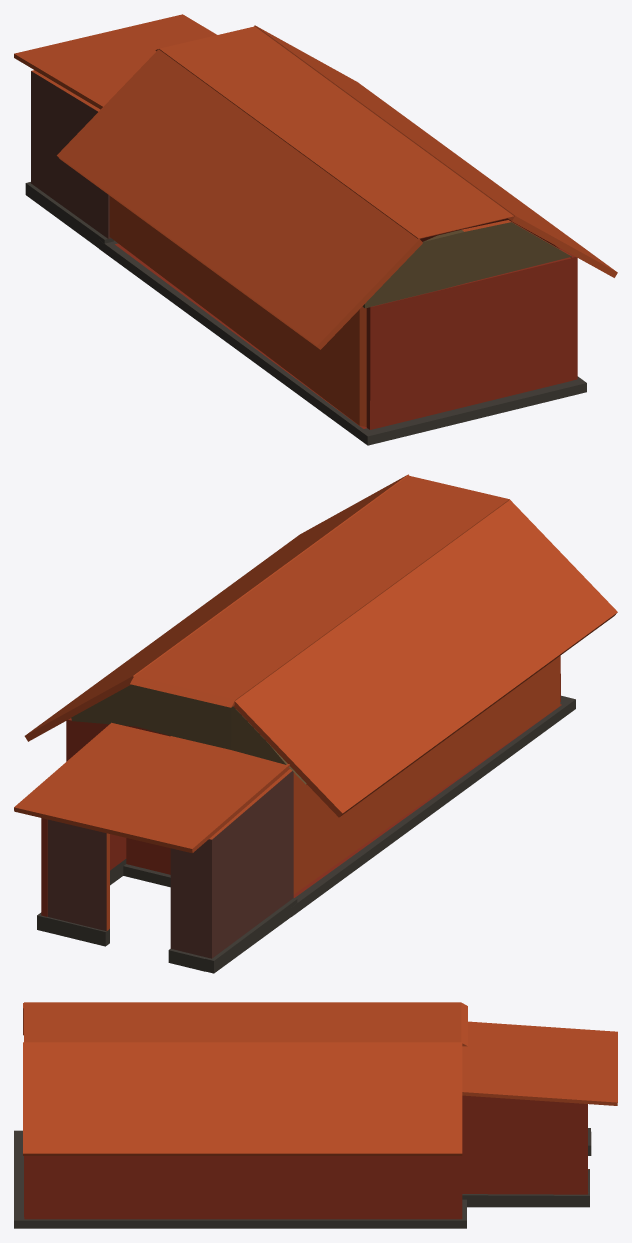
Rendered from LowPolyHouse.fbx.
3 renders of one model, top to bottom at view 1: azimuth 30°, elevation 25°; view 2: azimuth 150°, elevation 25°; view 3: azimuth 270°, elevation 25°, orthographic. The views are drawn at different scales.
Visible parts, largest first — view 1: Cube.020; view 2: Cube.020; view 3: Cube.020.
Part boxes in pixels (bbox=[...]): Cube.020: bbox=[14, 14, 617, 445]; Cube.020: bbox=[14, 474, 617, 973]; Cube.020: bbox=[14, 1002, 617, 1228].
Size of the model in its own units: 2372 by 1423 by 4893.
